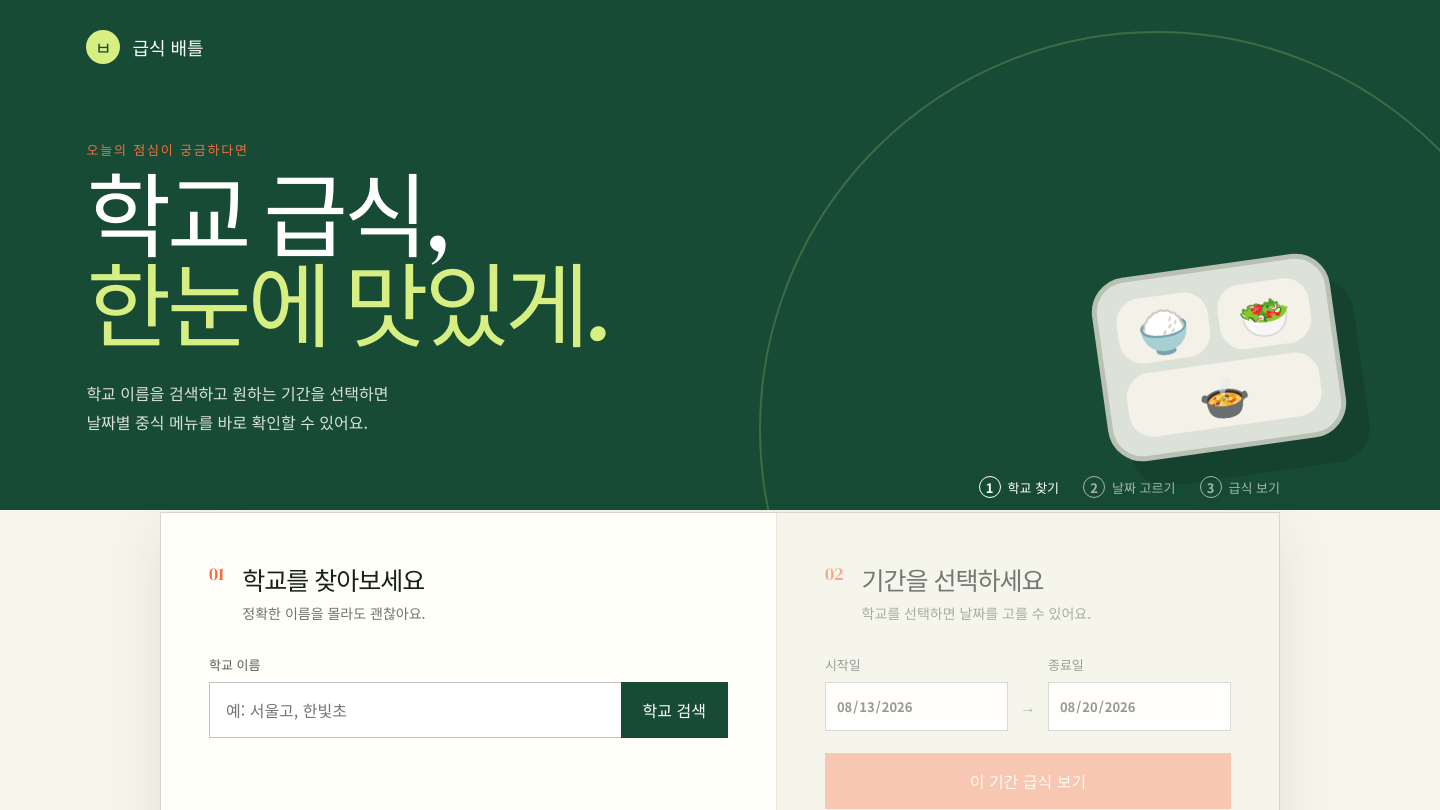
Test case: App › searches, selects a school, and displays meals
This screenshot has width=1440, height=810.
Step 1. Type "한빛" into the field labelled "학교 이름" → point(415, 710), box [209,682,620,738]
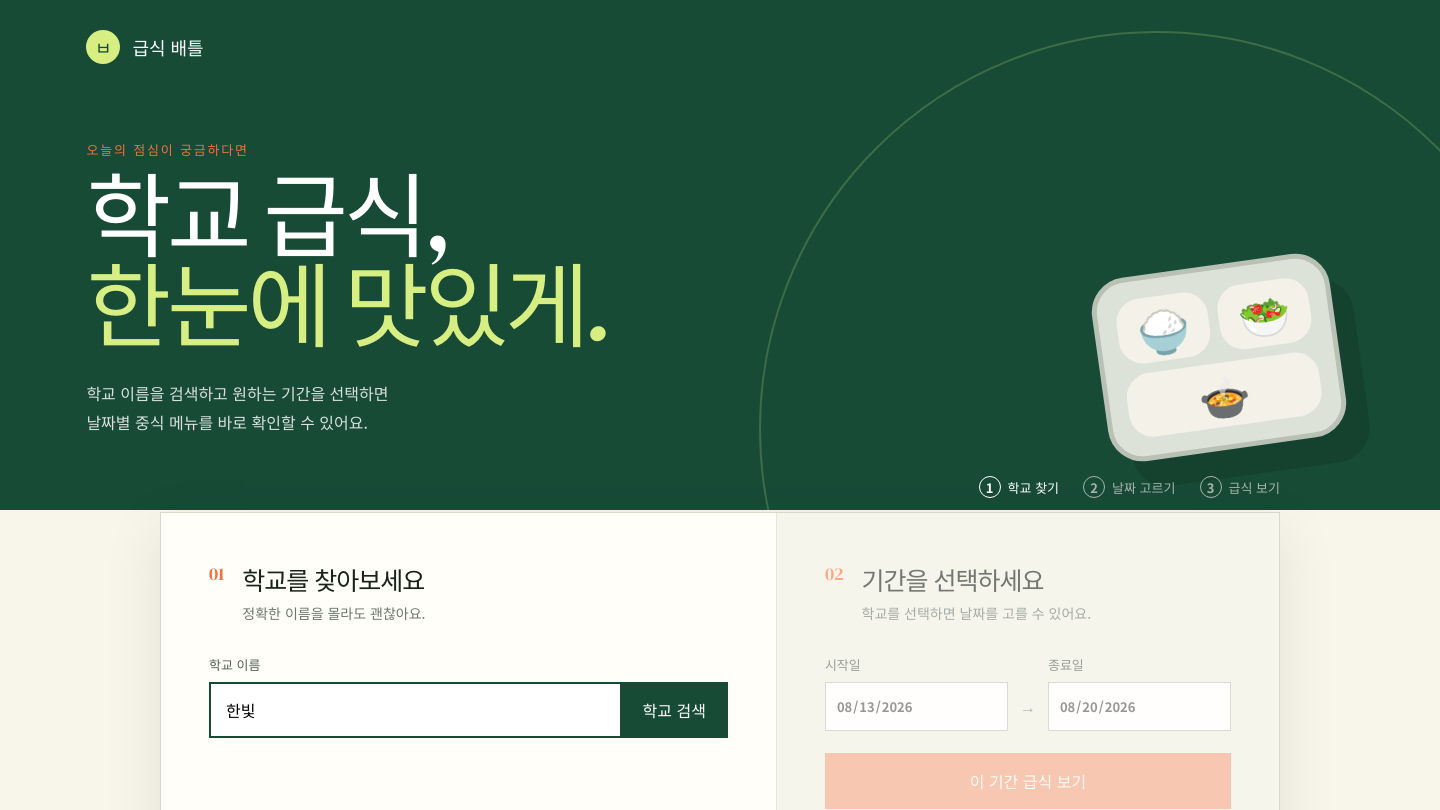
Step 2. Click the button "학교 검색" → point(674, 710), box [620,682,728,738]
(page scrolled)
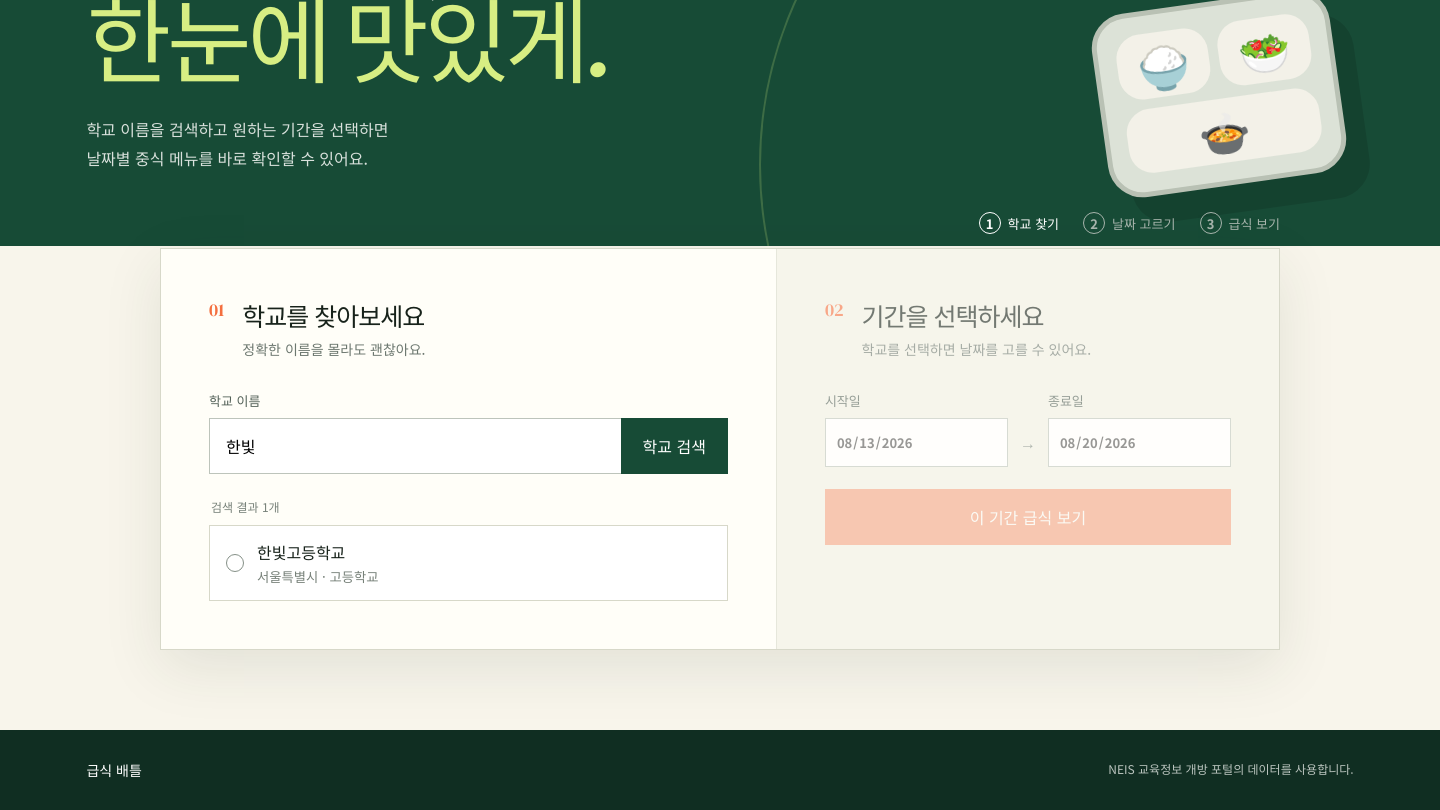
Step 3. Click the radio button labelled "한빛고등학교 서울특별시 · 고등학교" → point(301, 552), box [209,525,728,601]
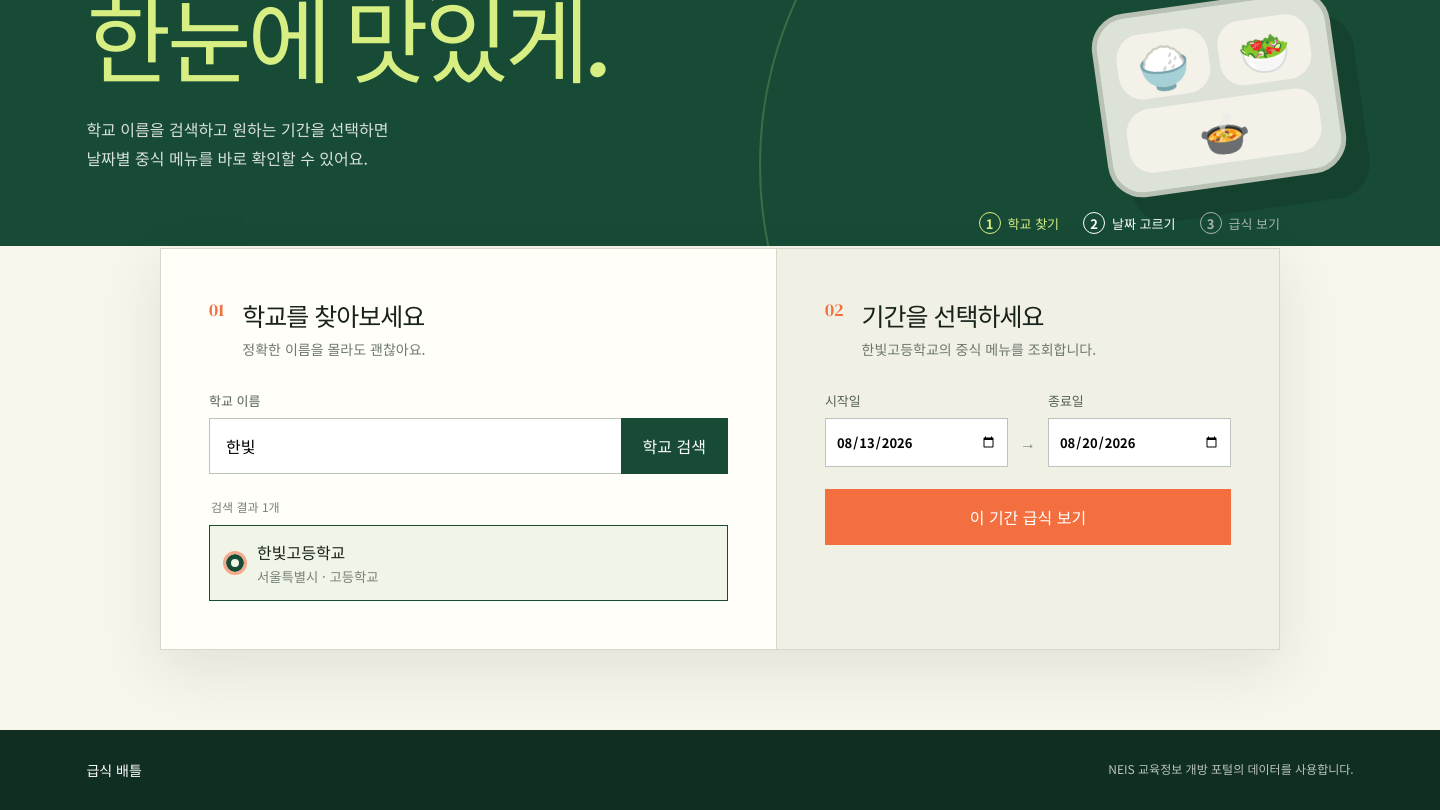
Step 4. Type "2026-08-03" into the date field labelled "시작일" → point(916, 442), box [825,418,1008,467]
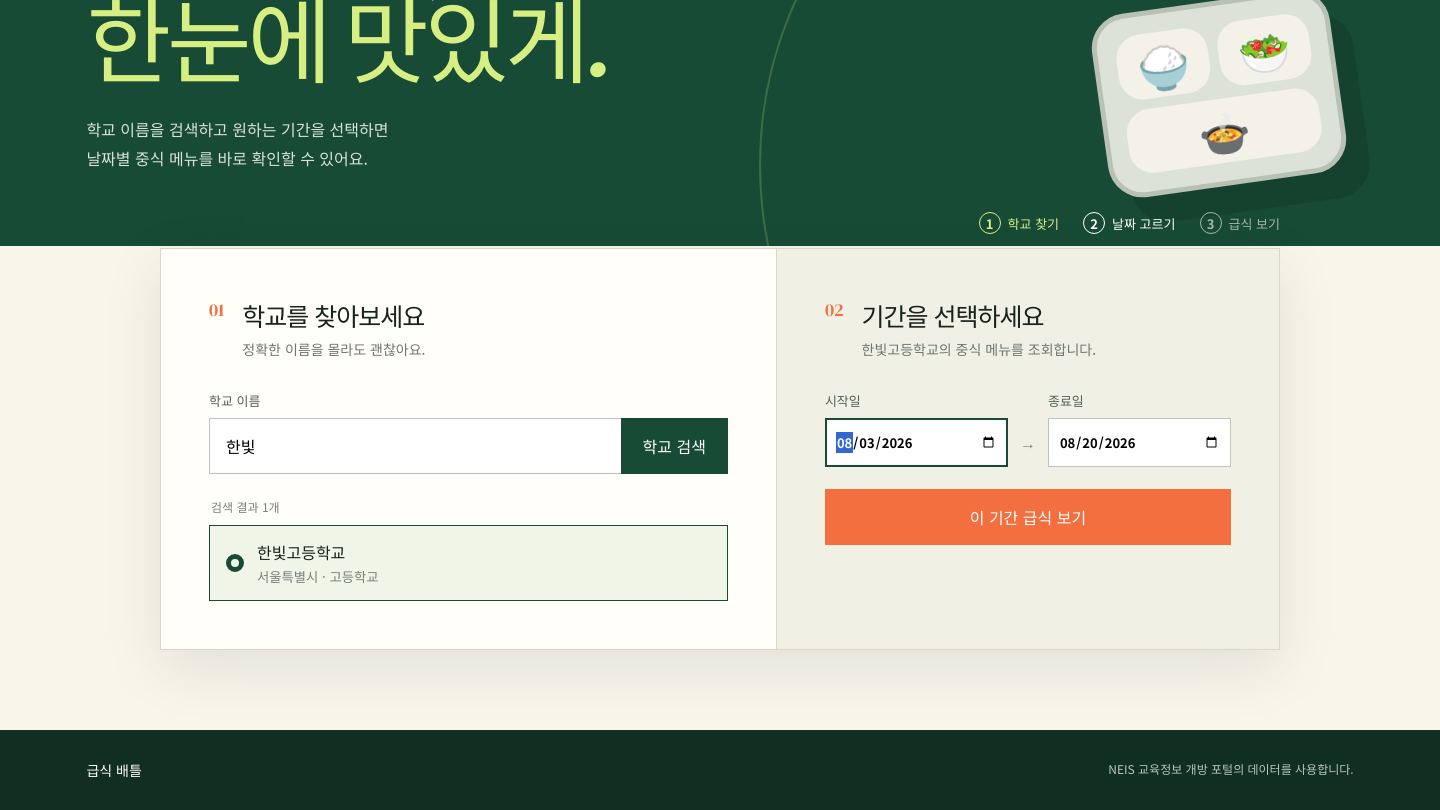
Step 5. Type "2026-08-04" into the date field labelled "종료일" → point(1139, 442), box [1048,418,1231,467]
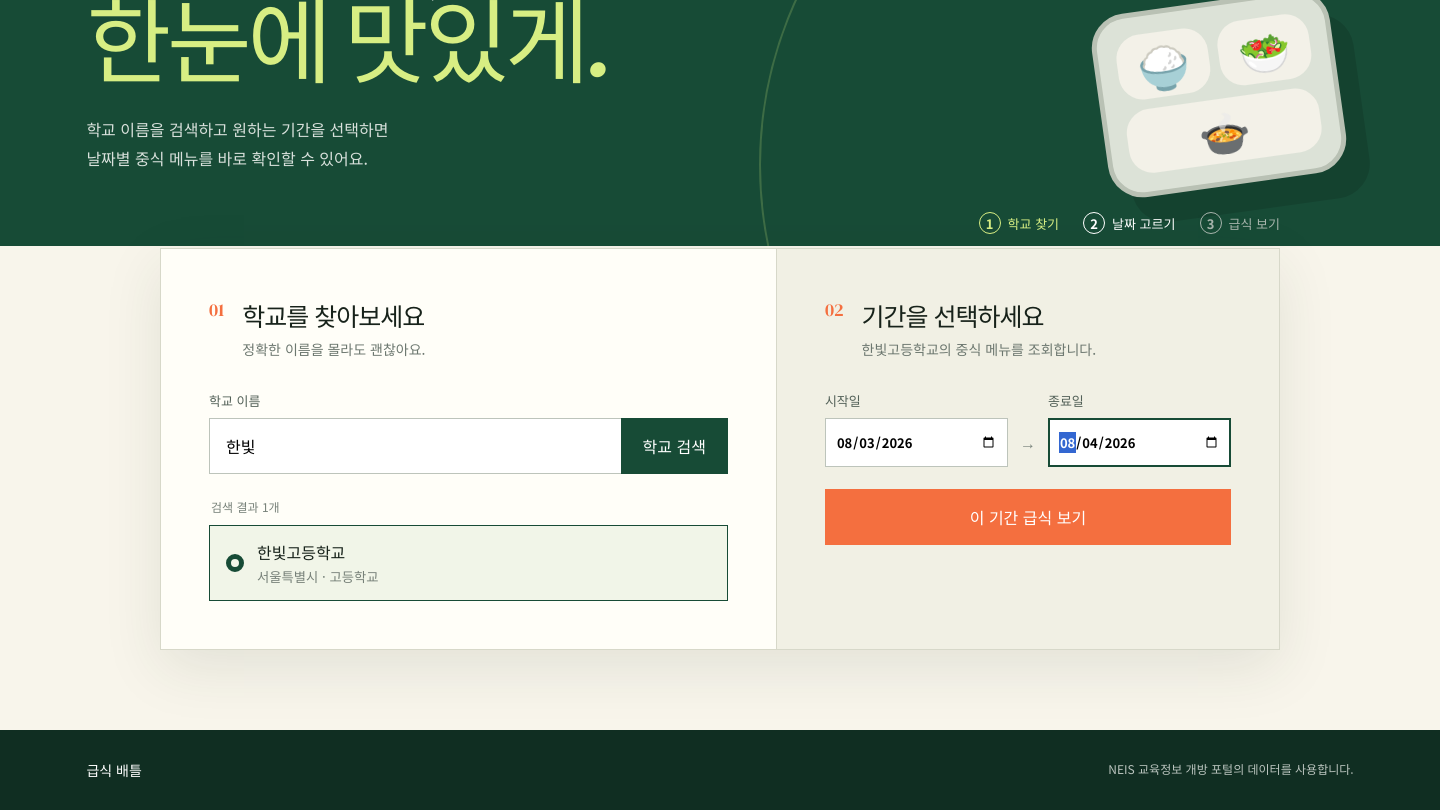
Step 6. Click the button "이 기간 급식 보기" → point(1028, 517), box [825,489,1231,545]
(page scrolled)
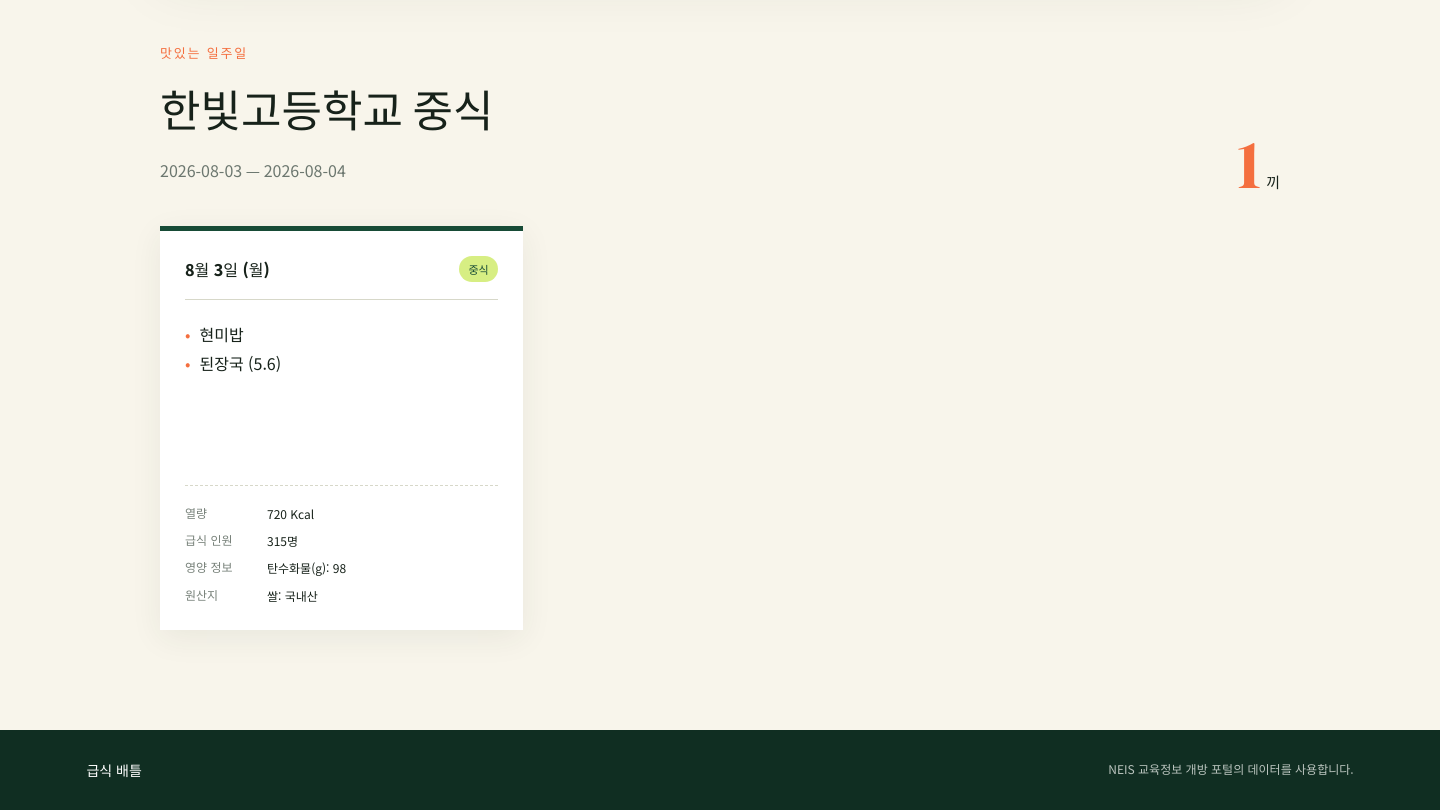
Check: the list item "현미밥" is shown, box [200,322,244,346]
Check: the list item "된장국 (5.6)" is shown, box [200,351,281,375]
Check: the text "315명" is shown, box [267,532,298,549]
